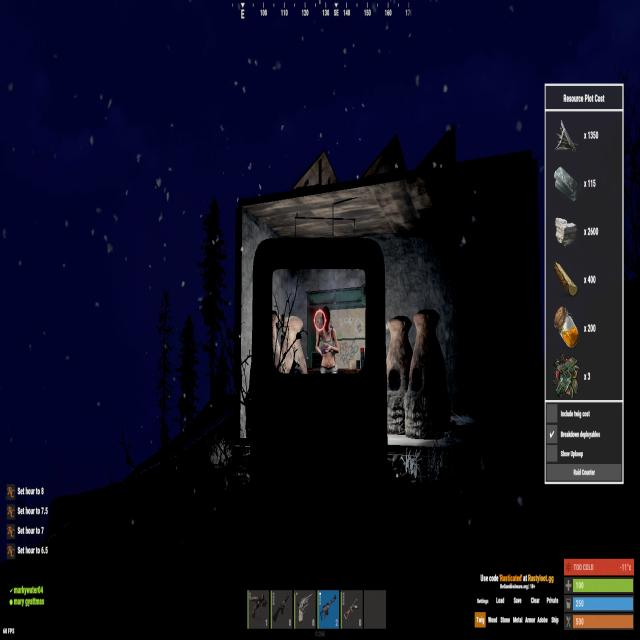Player: (314, 302, 342, 374)
